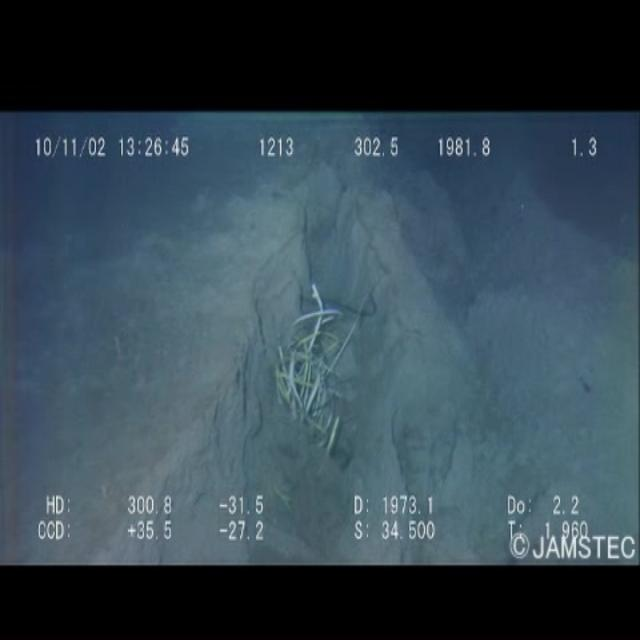Rope: (254, 268, 394, 462)
